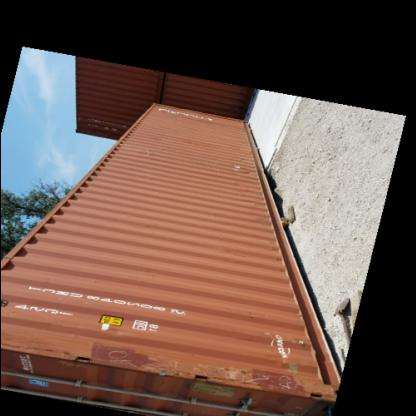Damage: (185, 366, 320, 404), (90, 342, 162, 378), (222, 164, 256, 184), (130, 147, 162, 159), (178, 136, 202, 148)
